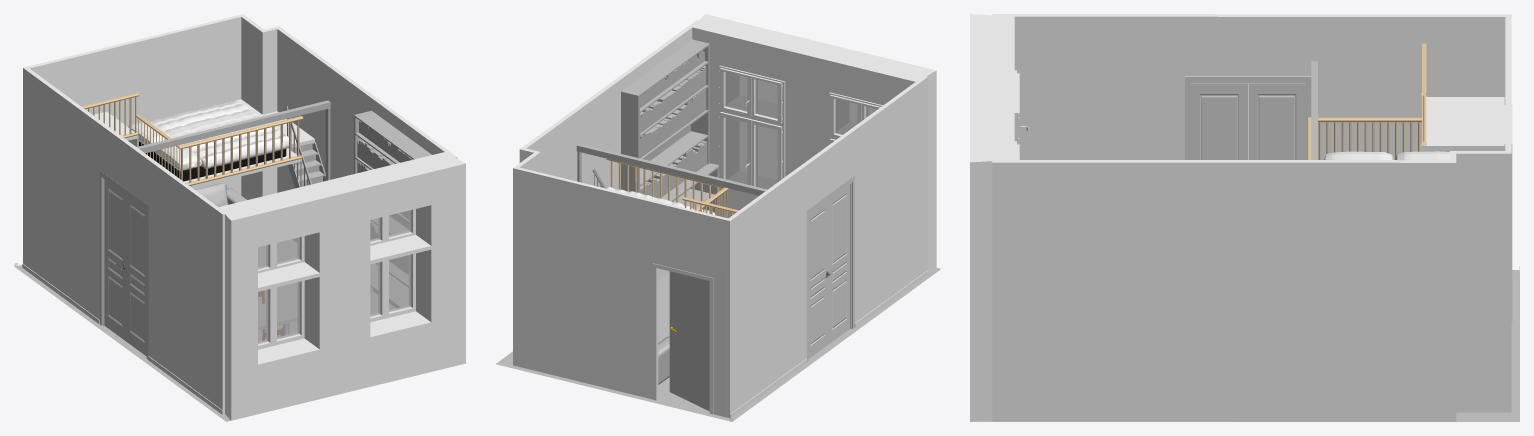
Rendered from WinterzimmerBalkenObenExport.obj.
3 views of the same model, side by side, from view 1: azimuth 30°, elevation 25°; view 2: azimuth 150°, elevation 25°; view 3: azimuth 270°, elevation 25° (orthographic). The views are drawn at different scales.
Parts seen in each view (by area): view 1: wall_2_12, wall_6_36, wall_1_5, wall_5_30, 75, DUVET1_1_1_218, Bookcase_195, frame_225, frame_80, wall_3_18, ground_1, wall_6_38 (+35 smaller); view 2: wall_1_4, wall_2_12, wall_6_35, Bookcase_195, wall_5_30, 75, sweethome3d_opening_on_hinge_1_door_74, ground_1, wall_6_38, wall_6_37, frame_66, wall_6_36 (+26 smaller); view 3: wall_5_29, wall_2_11, wall_3_17, 75, wall_6_36, room_11_63, wall_6_38, wall_6_37, ground_1, frame_door_Cube_76, 120, wall_2_14 (+10 smaller).
Part boxes in pixels (bbox=[...]): wall_2_12: bbox=[23, 68, 224, 414]; wall_6_36: bbox=[225, 163, 465, 420]; wall_1_5: bbox=[30, 17, 241, 194]; wall_5_30: bbox=[277, 29, 444, 242]; 75: bbox=[104, 179, 146, 356]; DUVET1_1_1_218: bbox=[150, 101, 288, 168]; Bookcase_195: bbox=[354, 110, 431, 313]; frame_225: bbox=[255, 274, 322, 367]; frame_80: bbox=[367, 246, 433, 340]; wall_3_18: bbox=[241, 17, 262, 199]; ground_1: bbox=[15, 240, 466, 421]; wall_6_38: bbox=[225, 158, 465, 220]; wall_1_4: bbox=[513, 168, 729, 418]; wall_2_12: bbox=[730, 77, 928, 413]; wall_6_35: bbox=[692, 27, 914, 218]; Bookcase_195: bbox=[621, 39, 718, 212]; wall_5_30: bbox=[526, 28, 692, 189]; 75: bbox=[808, 185, 850, 358]; sweethome3d_opening_on_hinge_1_door_74: bbox=[669, 271, 709, 411]; ground_1: bbox=[495, 267, 940, 421]; wall_6_38: bbox=[699, 14, 936, 75]; wall_6_37: bbox=[692, 21, 925, 81]; frame_66: bbox=[652, 263, 713, 414]; wall_6_36: bbox=[926, 70, 936, 271]; wall_5_29: bbox=[992, 162, 1456, 421]; wall_2_11: bbox=[1014, 16, 1505, 159]; wall_3_17: bbox=[1456, 153, 1511, 412]; 75: bbox=[1190, 83, 1305, 159]; wall_6_36: bbox=[970, 161, 992, 421]; room_11_63: bbox=[1421, 97, 1504, 149]; wall_6_38: bbox=[970, 14, 992, 162]; wall_6_37: bbox=[992, 15, 1014, 160]; ground_1: bbox=[970, 270, 1519, 421]; frame_door_Cube_76: bbox=[1185, 76, 1311, 159]; 120: bbox=[1318, 122, 1419, 159]; wall_2_14: bbox=[992, 14, 1510, 15].
Bounding box in the file's own units: 428 × 340 × 654.
